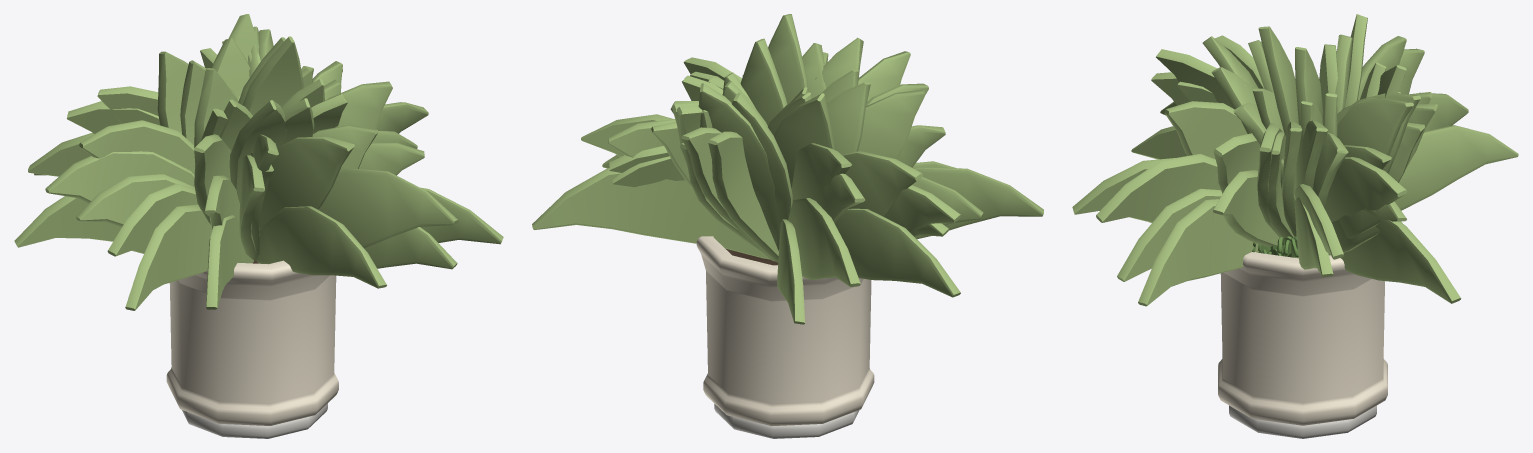
Rendered from sujet_fougere.glb.
3 views of the same model, side by side, from view 1: azimuth 30°, elevation 25°; view 2: azimuth 150°, elevation 25°; view 3: azimuth 270°, elevation 25° (orthographic). The views are drawn at different scales.
Visible parts, largest first — view 1: SUD_Feuille_Tendre, SUD_Pot_Creme, SUD_Embase; view 2: SUD_Feuille_Tendre, SUD_Pot_Creme, SUD_Embase; view 3: SUD_Feuille_Tendre, SUD_Pot_Creme, SUD_Embase, SUD_Feuille_Moyen.
Boxes of the visible parts, x1,y1,x2,y2 form: SUD_Feuille_Tendre: (14, 14, 503, 310); SUD_Pot_Creme: (166, 260, 338, 425); SUD_Embase: (182, 403, 327, 438); SUD_Feuille_Tendre: (532, 14, 1043, 324); SUD_Pot_Creme: (696, 236, 874, 426); SUD_Embase: (714, 404, 859, 438); SUD_Feuille_Tendre: (1072, 14, 1518, 306); SUD_Pot_Creme: (1218, 252, 1387, 425); SUD_Embase: (1229, 405, 1376, 438); SUD_Feuille_Moyen: (1252, 236, 1298, 258).
Bounding box in the file's own units: 1.03 × 0.9438 × 0.9748.
